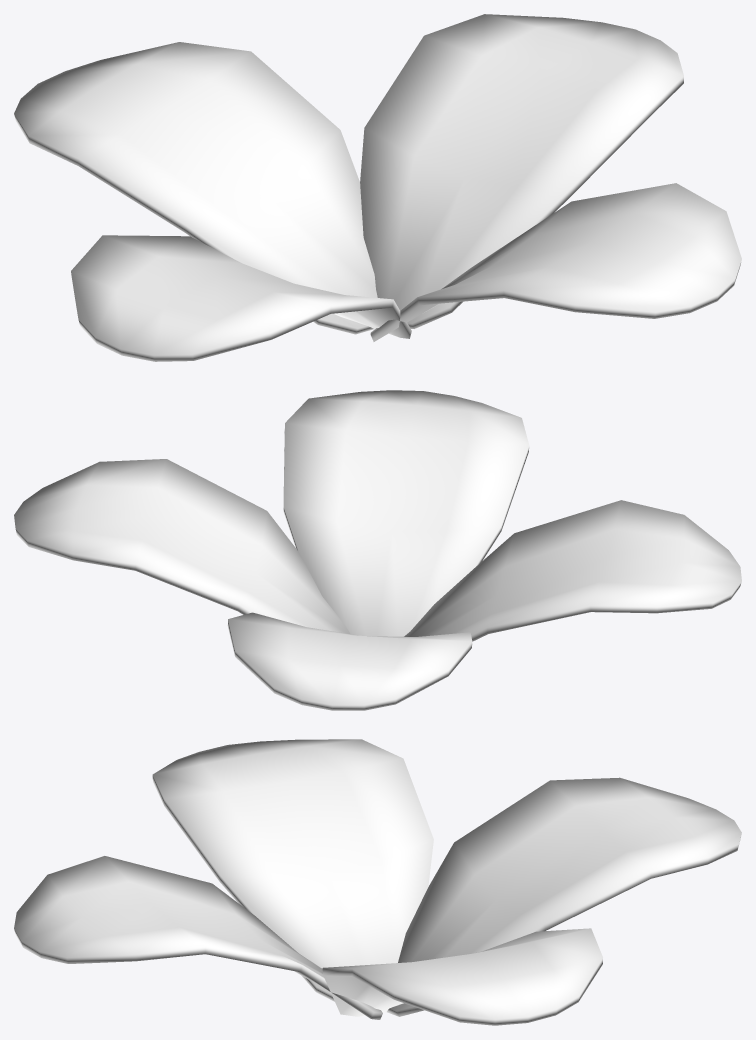
The model's file is whiteflower.fbx.
3 views of the same model, one above another, from view 1: azimuth 30°, elevation 25°; view 2: azimuth 150°, elevation 25°; view 3: azimuth 270°, elevation 25° (orthographic). The views are drawn at different scales.
Visible parts, largest first — view 1: white flower; view 2: white flower; view 3: white flower.
Boxes of the visible parts, x1,y1,x2,y2 form: white flower: (14, 14, 741, 361); white flower: (14, 390, 741, 710); white flower: (14, 739, 741, 1025).
Bounding box in the file's own units: 36.47 × 8.6 × 36.51.
